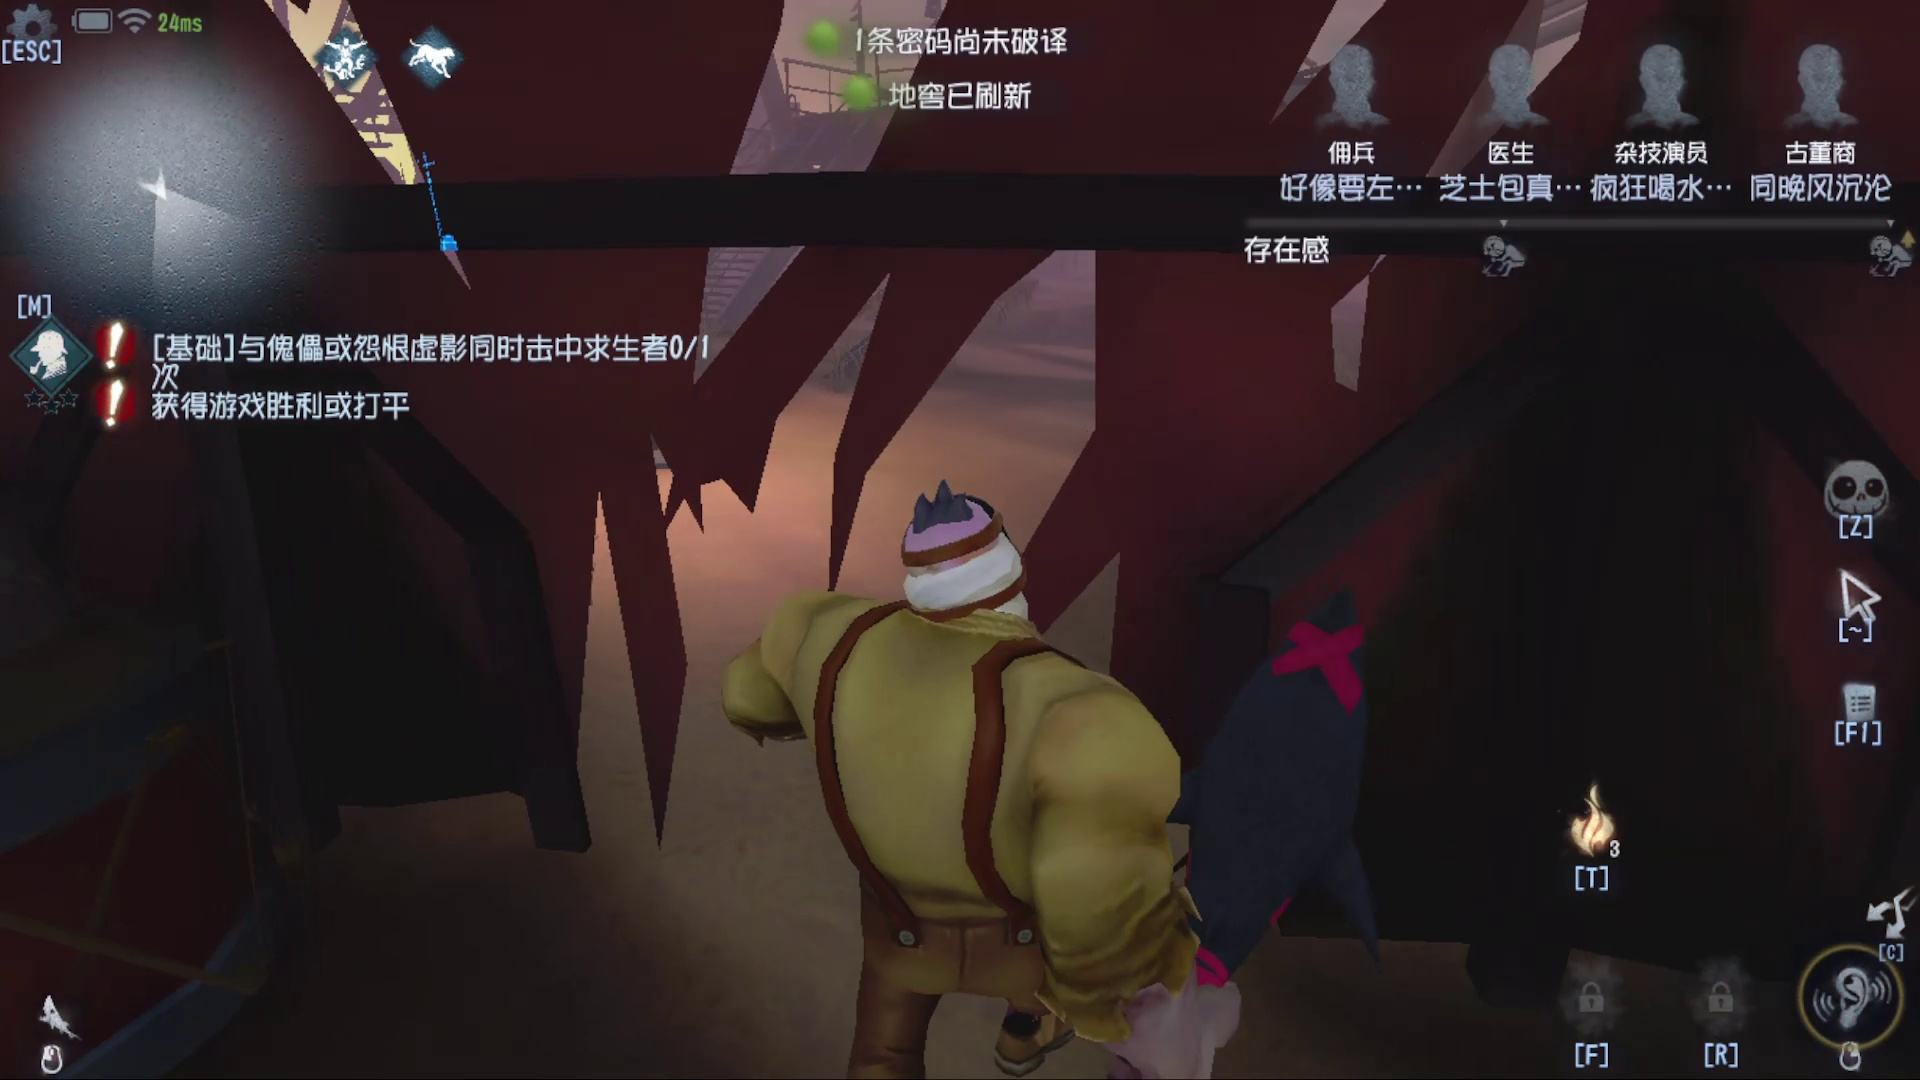密码机: (397, 124, 469, 262)
